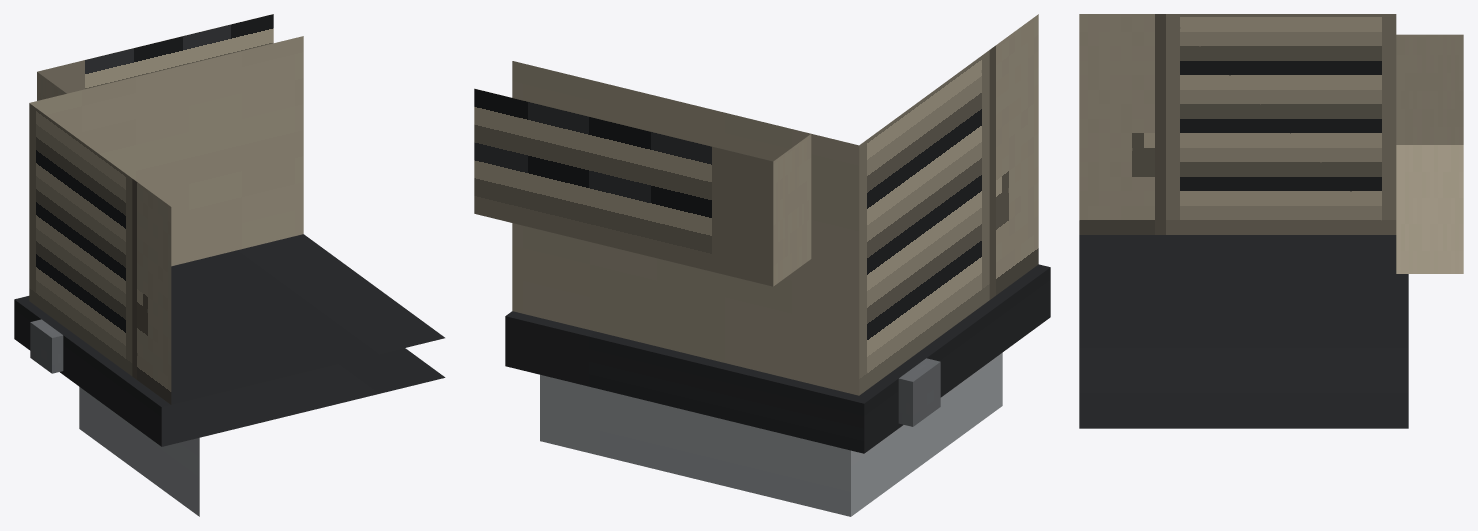
File: rtu_large_xm1_y0_z0.obj
The picture shows the model from 3 angles, left to right: view 1: azimuth 30°, elevation 25°; view 2: azimuth 150°, elevation 25°; view 3: azimuth 270°, elevation 25°; orthographic projection. The views are drawn at different scales.
Visible parts, largest first — view 1: unit; view 2: unit; view 3: unit.
Boxes of the visible parts, x1,y1,x2,y2 form: unit: (14, 14, 445, 516); unit: (474, 14, 1050, 516); unit: (1079, 14, 1463, 428).
Bounding box in the file's own units: 0.975 × 1 × 0.9844.
